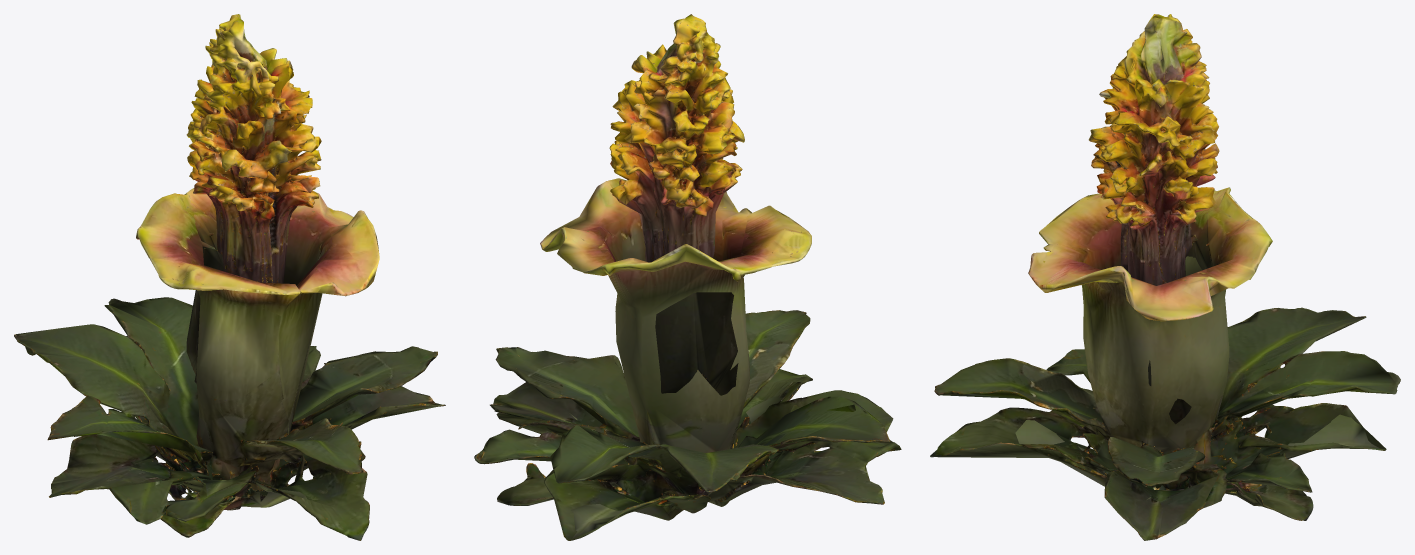
The model's file is field_flower_1.glb.
3 views of the same model, side by side, from view 1: azimuth 30°, elevation 25°; view 2: azimuth 150°, elevation 25°; view 3: azimuth 270°, elevation 25° (orthographic). The views are drawn at different scales.
Size of the model in its own units: 1.73 by 2 by 1.8.
Materials: 1 (1 with a texture image).
